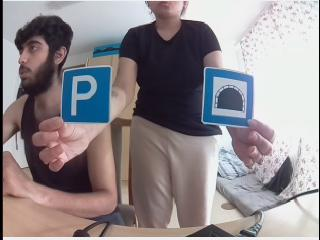parking: (60, 71, 110, 123)
tunnel: (204, 68, 252, 128)
